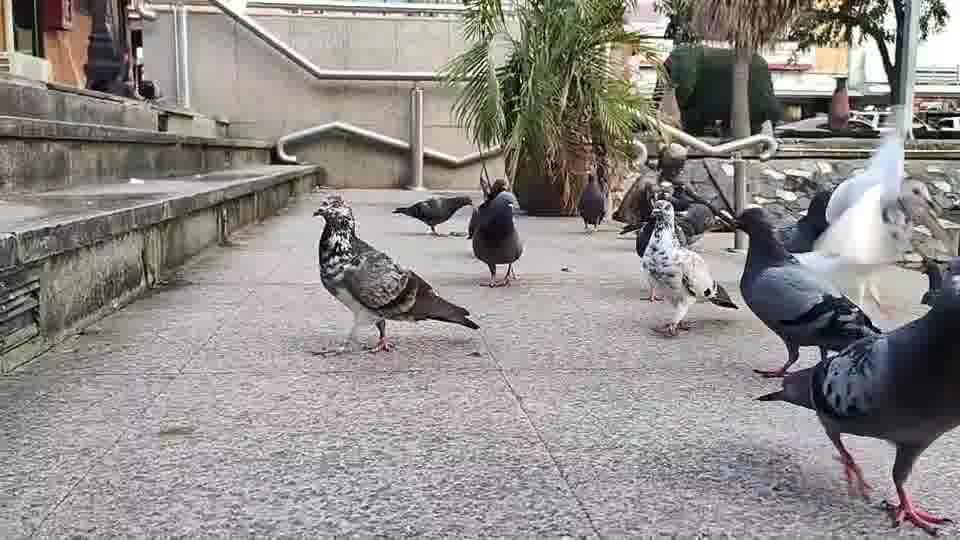Pigeon: (753, 253, 959, 535), (310, 194, 480, 354), (730, 203, 882, 378), (634, 198, 738, 337), (466, 164, 525, 287), (391, 194, 473, 236), (576, 169, 607, 232)
